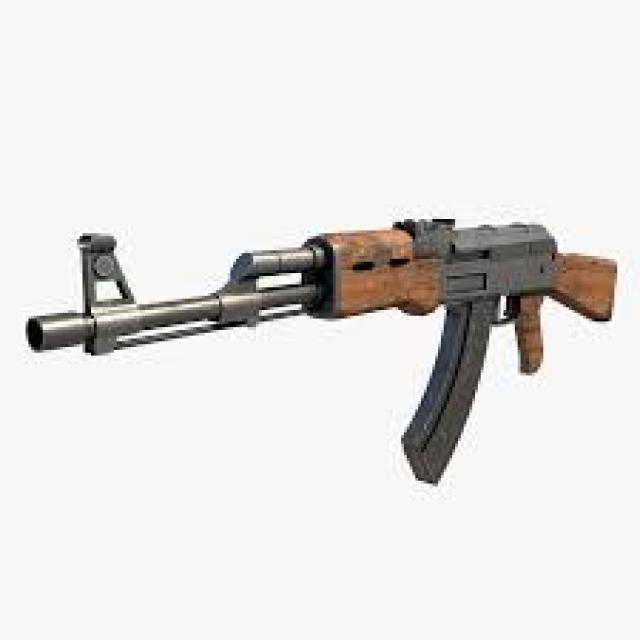rifle: (18, 191, 631, 507)
